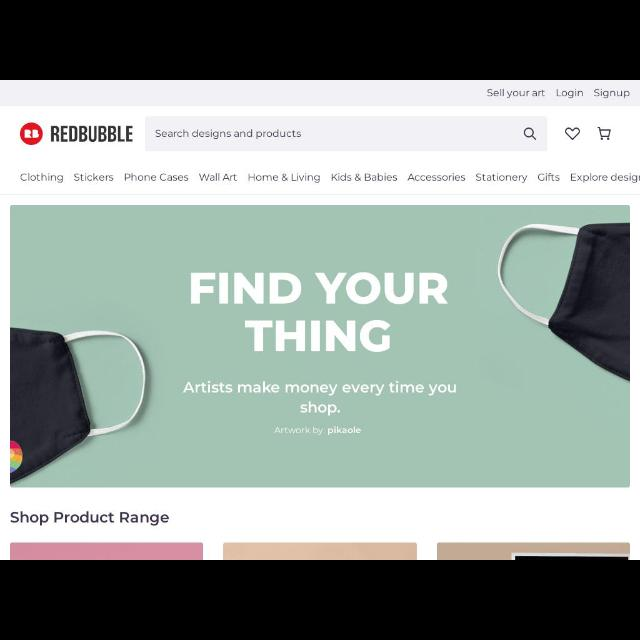backgroundimage: (9, 205, 630, 488)
icon: (485, 86, 545, 102), (592, 86, 630, 102), (556, 87, 582, 101), (562, 125, 582, 141), (522, 127, 538, 143), (596, 125, 612, 141)
image: (435, 540, 631, 560), (218, 541, 416, 559), (17, 118, 135, 146), (9, 542, 202, 558)
input: (145, 115, 547, 148)
text: (188, 269, 450, 359), (177, 379, 461, 416), (9, 508, 170, 528), (156, 128, 300, 140), (272, 426, 364, 438), (330, 169, 398, 185), (246, 172, 320, 184), (568, 172, 638, 184), (123, 171, 189, 183), (474, 171, 528, 185), (406, 170, 466, 182), (20, 170, 64, 186), (198, 171, 238, 183), (73, 172, 113, 182), (536, 172, 560, 182)
toolbar: (0, 81, 638, 195)
